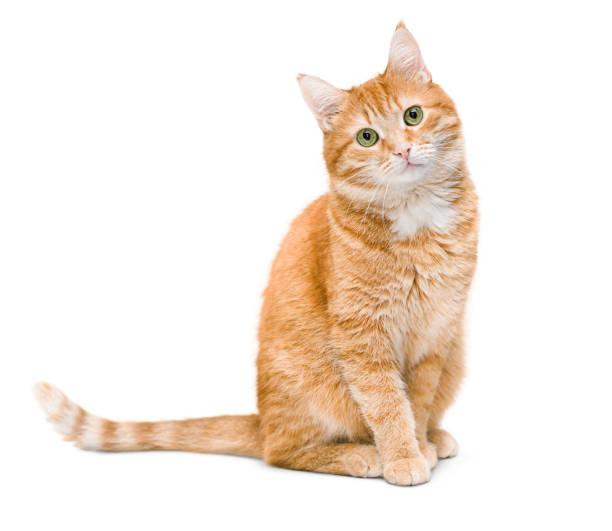kedo: (33, 22, 478, 486)
